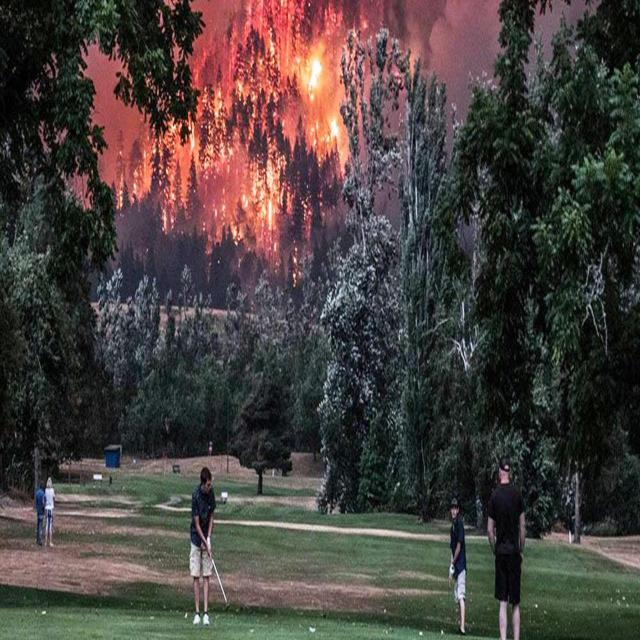Fire: (136, 26, 353, 305)
